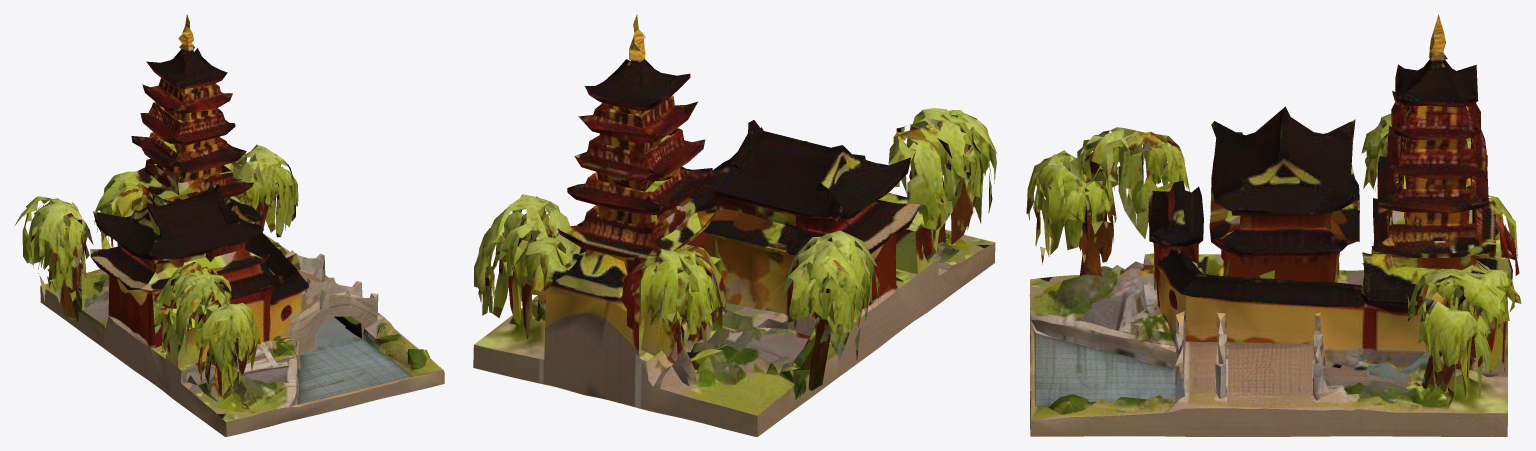
Rendered from hanshan-temple.glb.
The picture shows the model from 3 angles, left to right: view 1: azimuth 30°, elevation 25°; view 2: azimuth 150°, elevation 25°; view 3: azimuth 270°, elevation 25°; orthographic projection. The views are drawn at different scales.
Visible parts, largest first — view 1: logan-textured.obj; view 2: logan-textured.obj; view 3: logan-textured.obj.
Boxes of the visible parts, bbox=[...] form: logan-textured.obj: bbox=[14, 14, 444, 436]; logan-textured.obj: bbox=[473, 14, 997, 436]; logan-textured.obj: bbox=[1026, 14, 1521, 436].
Bounding box in the file's own units: 0.867 × 0.8028 × 1.
Materials: 1 (1 with a texture image).
